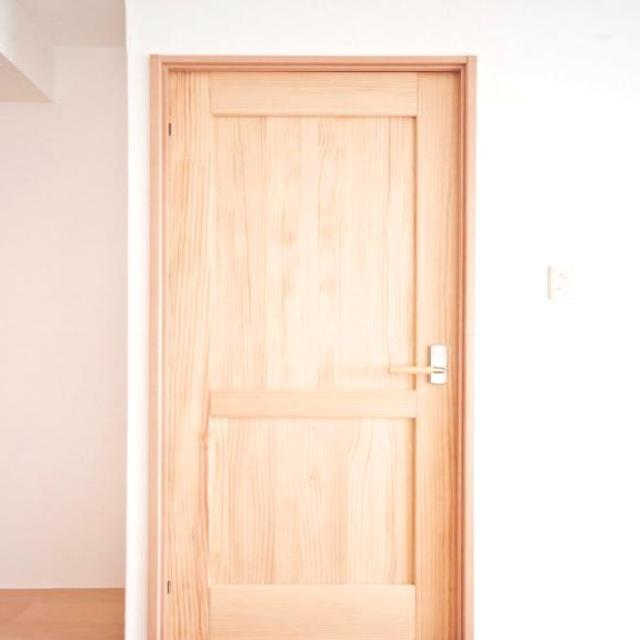Door: (147, 54, 470, 639)
